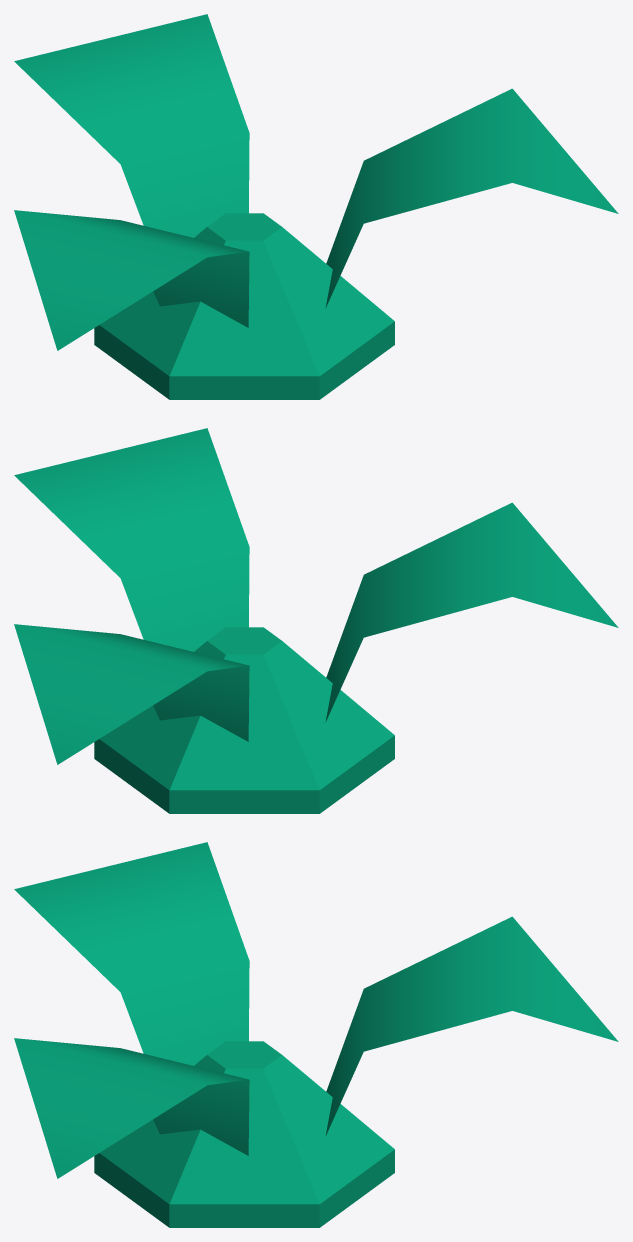
Rendered from Fern.fbx.
The picture shows the model from 3 angles, top to bottom: view 1: azimuth 30°, elevation 25°; view 2: azimuth 150°, elevation 25°; view 3: azimuth 270°, elevation 25°; orthographic projection.
Visible parts, largest first — view 1: mergedBlocks; view 2: mergedBlocks; view 3: mergedBlocks.
Part boxes in pixels (x1=…): mergedBlocks: x1=14, y1=14, x2=618, y2=399; mergedBlocks: x1=14, y1=428, x2=618, y2=813; mergedBlocks: x1=14, y1=842, x2=618, y2=1227.
Bounding box in the file's own units: 7.47 × 2.66 × 6.97.
